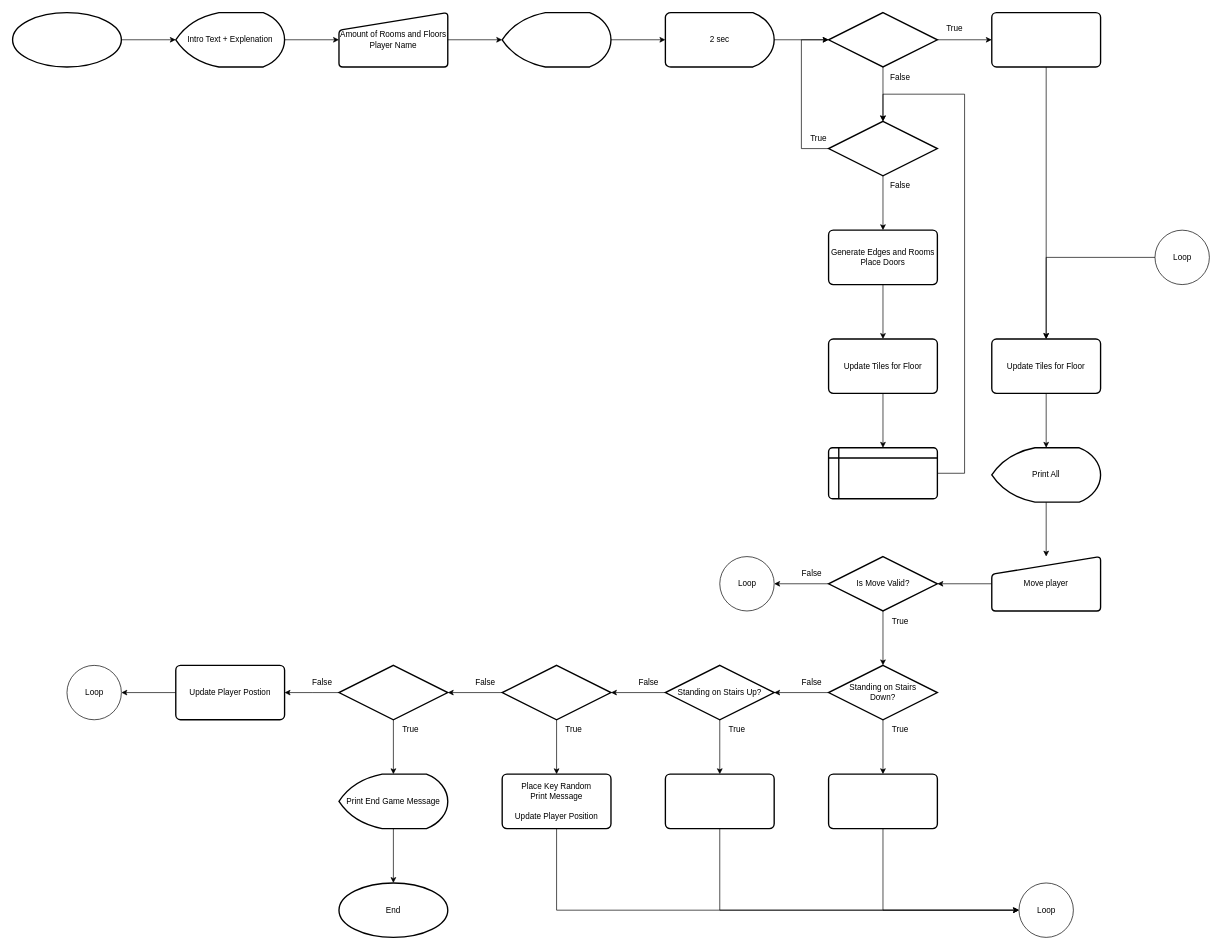
Some shapes in this 1221 by 949 pixel diagram are drawn without their labels. The shapes that lost their labels are listed below. From the top down, each one's box as (x1, y1, x2, y2) in pixels, then its label:
(12, 12, 122, 67): Start
(501, 12, 611, 67): Intro 2
(828, 12, 938, 67): Floors created = Floors Amount ?
(991, 12, 1101, 67): Place Key and Stairs
(828, 120, 938, 176): Rooms created = Rooms Amount ?
(828, 447, 938, 499): Save Floor
(338, 664, 448, 720): Is On Ladders?
(501, 664, 611, 720): Standing on Key?
(664, 773, 775, 829): Change Floor Up Update Player Position
(828, 773, 938, 829): Change Floor Down Update Player Position
